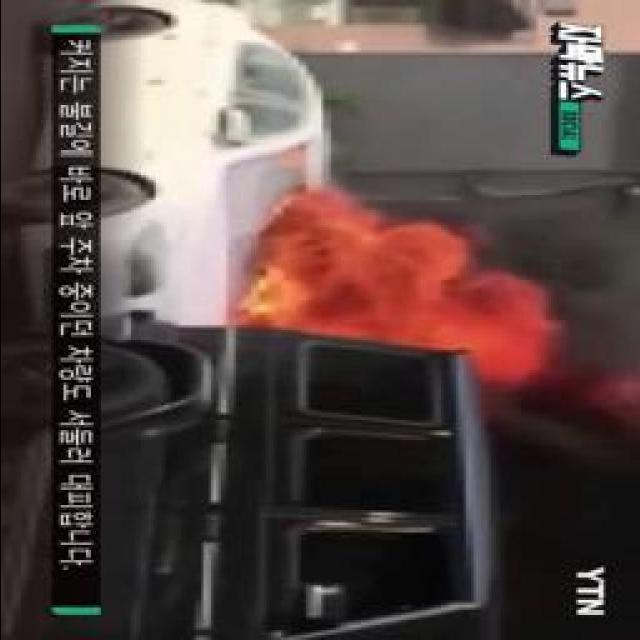Fire: (246, 224, 545, 384)
